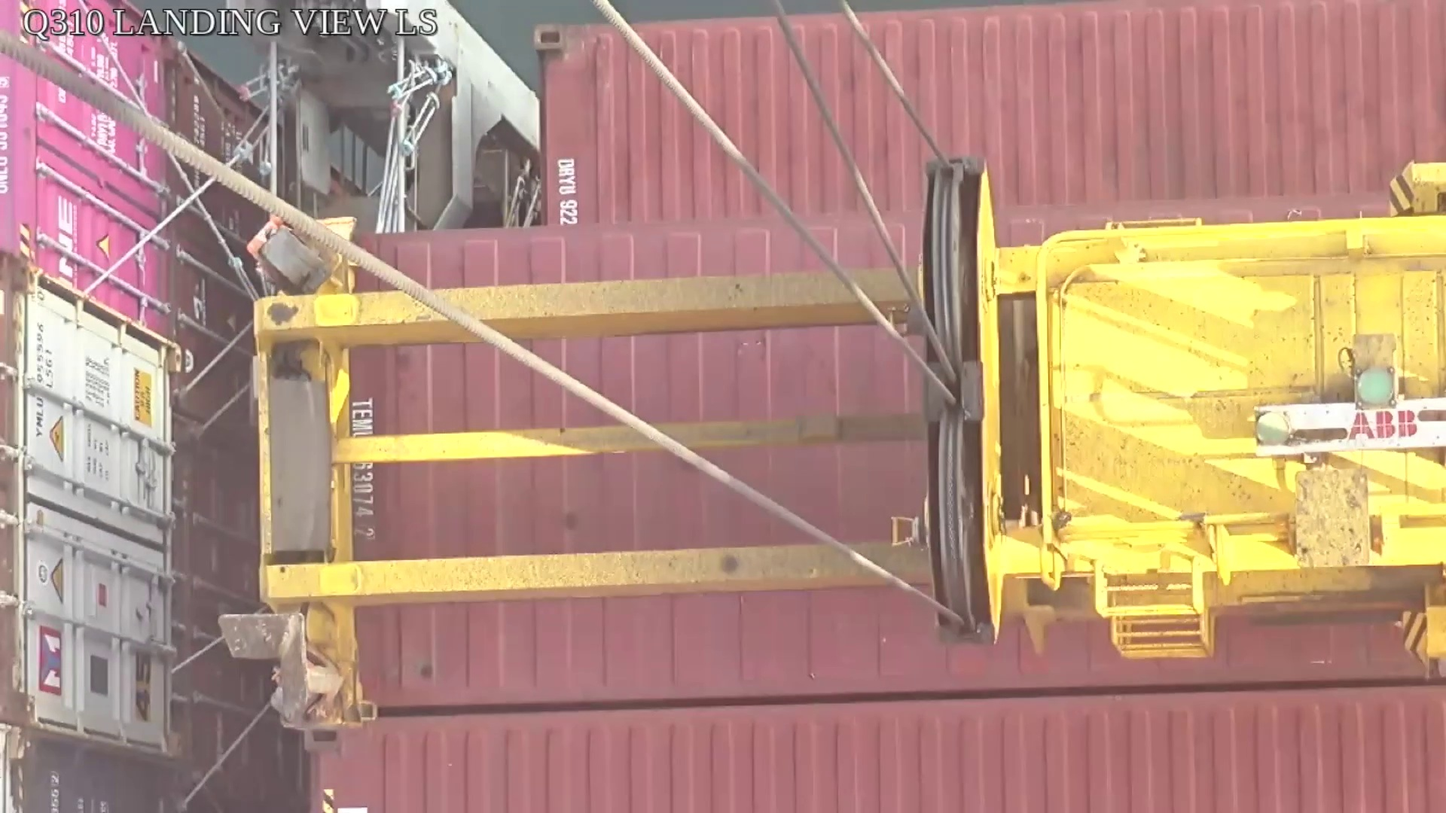aa: (918, 153, 1001, 647)
